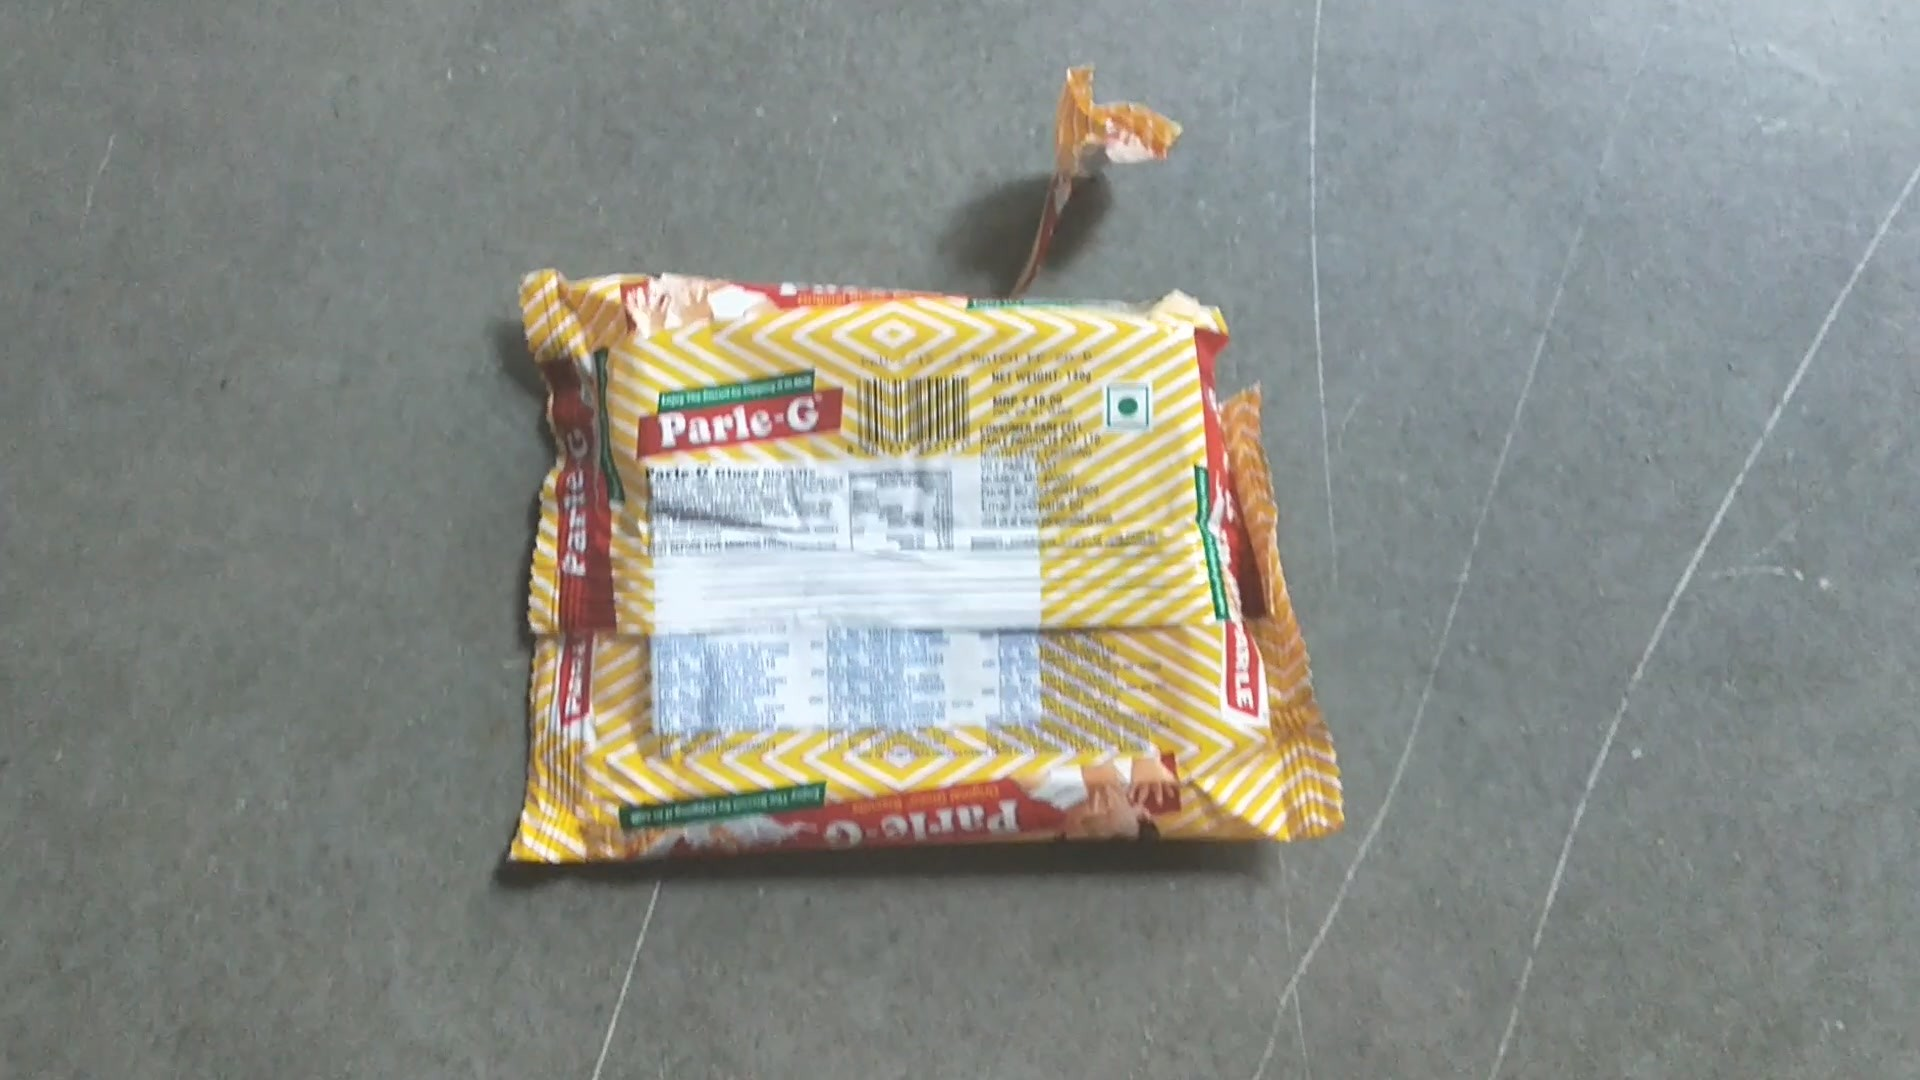parle-g-b: (553, 315, 1226, 837)
